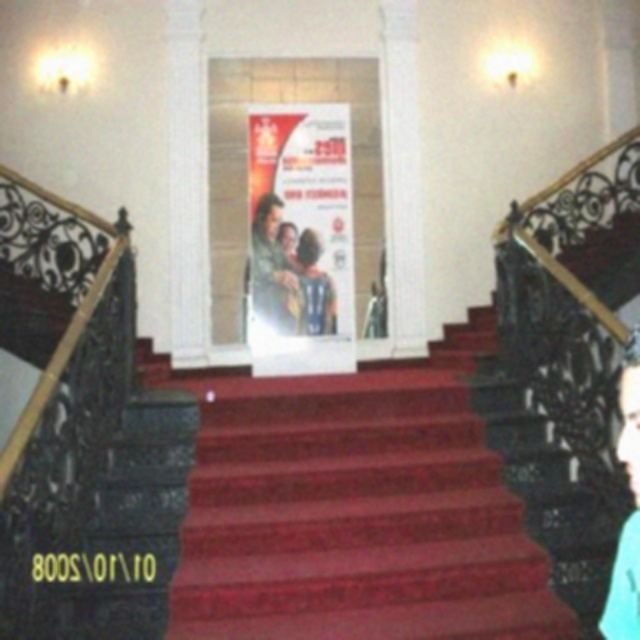stair: (0, 200, 640, 640)
